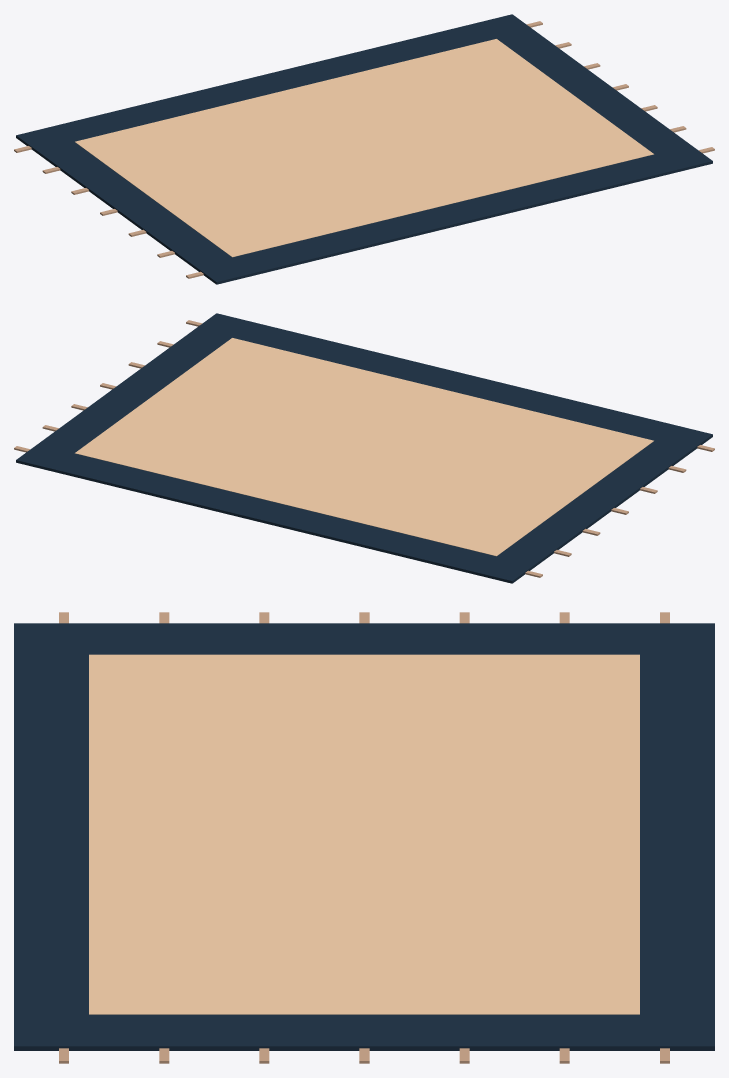
Rendered from Rug.fbx.
3 renders of one model, top to bottom at view 1: azimuth 30°, elevation 25°; view 2: azimuth 150°, elevation 25°; view 3: azimuth 270°, elevation 25°, orthographic. The views are drawn at different scales.
Visible parts, largest first — view 1: Rug; view 2: Rug; view 3: Rug.
Boxes of the visible parts, left/top/right/bottom form: Rug: left=14, top=14, right=714, bottom=284; Rug: left=14, top=313, right=714, bottom=583; Rug: left=14, top=612, right=714, bottom=1063.
Bounding box in the file's own units: 2.12 × 0.011 × 1.4.
1 material, 1 textured.
